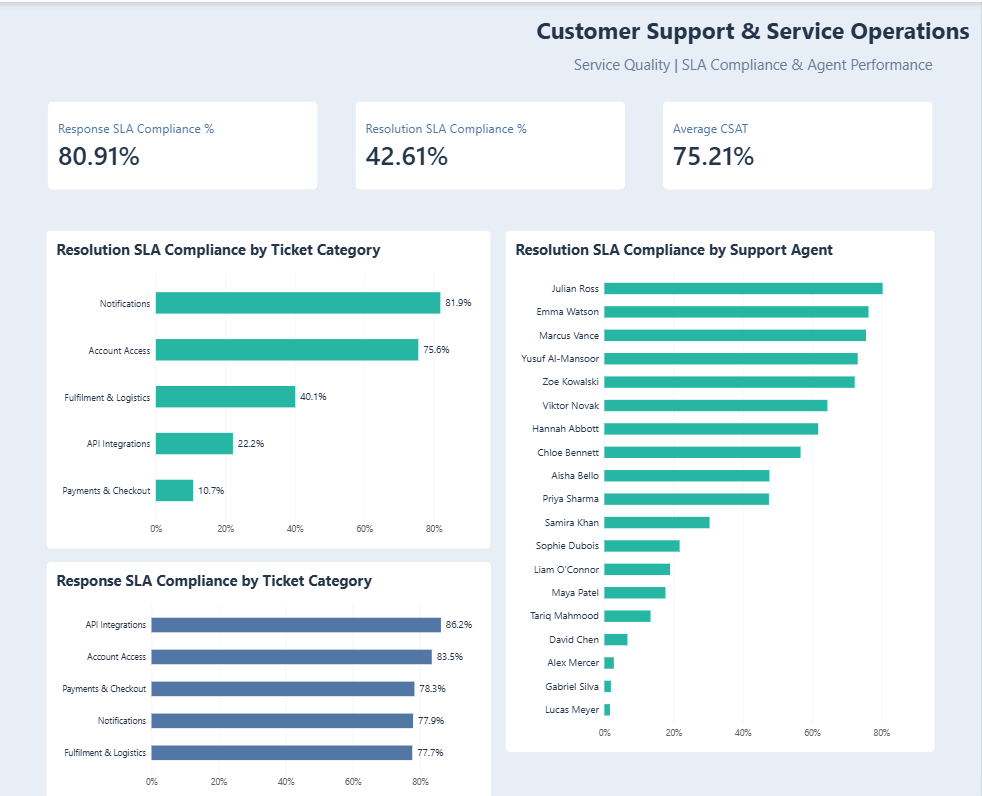

The dashboard page shown, as its layout file describes it:
{"tool":"powerbi","page":{"name":"Service Quality & Agent Performance","canvas":[1600,1300],"ordinal":2},"visuals":[{"type":"textbox","box":[480,20,1100,65],"z":0},{"type":"textbox","box":[890.8,85.4,629.7,36.6],"z":1000},{"type":"cardVisual","fields":{"Data":["tickets.Response SLA Compliance %"]},"box":[80,160,440,145],"z":1001},{"type":"cardVisual","fields":{"Data":["tickets.Resolution SLA Compliance %"]},"box":[580,160,440,145],"z":1002},{"type":"cardVisual","fields":{"Data":["tickets.Average CSAT"]},"box":[1080,160,440,145],"z":1003},{"type":"clusteredBarChart","title":"Resolution SLA Compliance by Ticket Category","fields":{"Category":["tickets.category"],"Y":["tickets.Resolution SLA Compliance %"]},"box":[78.7,369.8,724,519.4],"z":1004},{"type":"clusteredBarChart","title":"Resolution SLA Compliance by Support Agent","fields":{"Category":["agents.agent_name"],"Y":["tickets.Resolution SLA Compliance %"]},"box":[824.9,371,700,850],"z":1005},{"type":"clusteredBarChart","title":"Response SLA Compliance by Ticket Category","fields":{"Category":["tickets.category"],"Y":["tickets.Response SLA Compliance %"]},"box":[78.1,910.3,724.9,390.5],"z":1006}]}

Visuals, with their boxes in screenshot pixels (x1, y1, x2, y2), scaled from the page's 1600x1300 canvas onto the 982x796 screenshot:
textbox: 295, 12, 970, 52
textbox: 547, 52, 933, 75
cardVisual - tickets.Response SLA Compliance %: 49, 98, 319, 187
cardVisual - tickets.Resolution SLA Compliance %: 356, 98, 626, 187
cardVisual - tickets.Average CSAT: 663, 98, 933, 187
"Resolution SLA Compliance by Ticket Category" clusteredBarChart: 48, 226, 493, 544
"Resolution SLA Compliance by Support Agent" clusteredBarChart: 506, 227, 936, 748
"Response SLA Compliance by Ticket Category" clusteredBarChart: 48, 557, 493, 795
